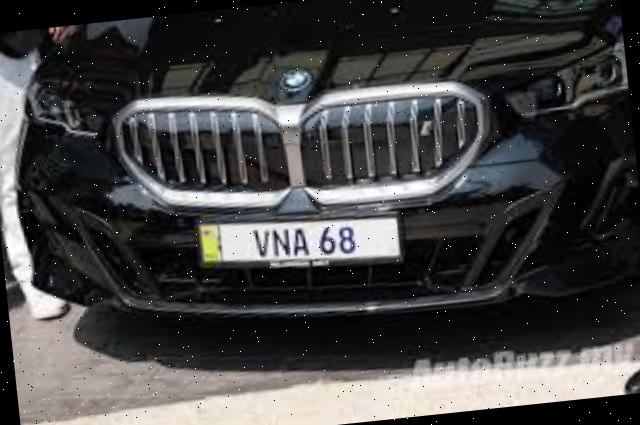License_Plate: (192, 199, 409, 290)
car: (3, 1, 640, 374)
